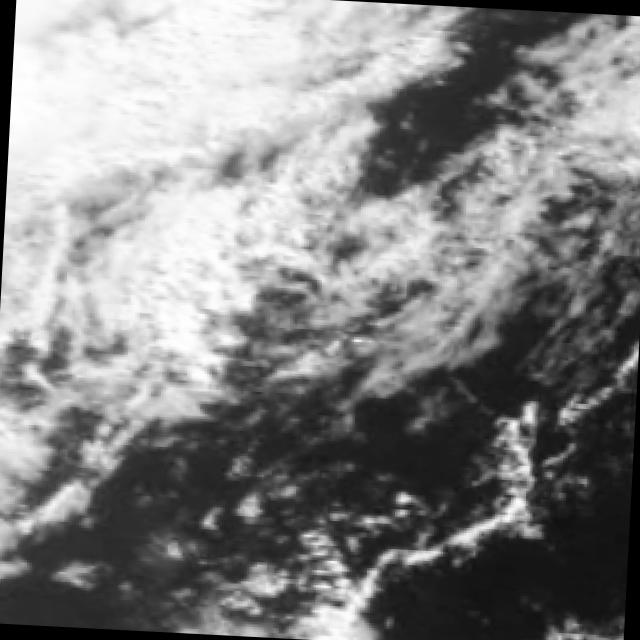CB: (138, 0, 350, 141), (8, 0, 157, 170), (108, 192, 254, 347)
